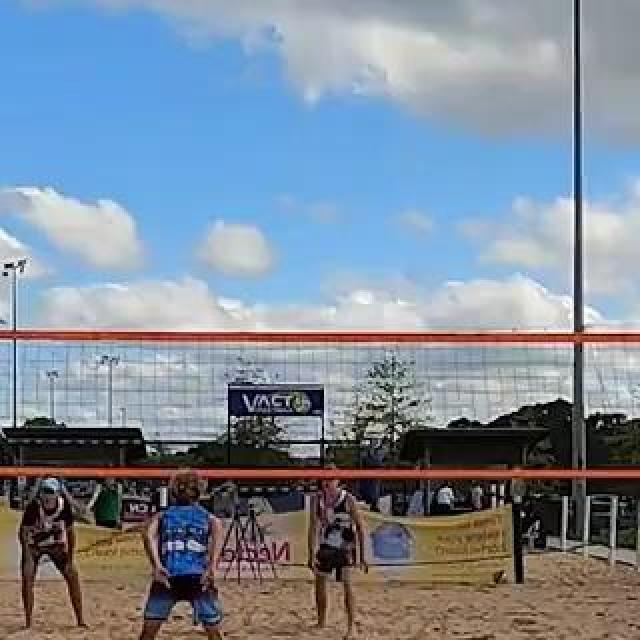volleyball: (492, 570, 508, 586)
